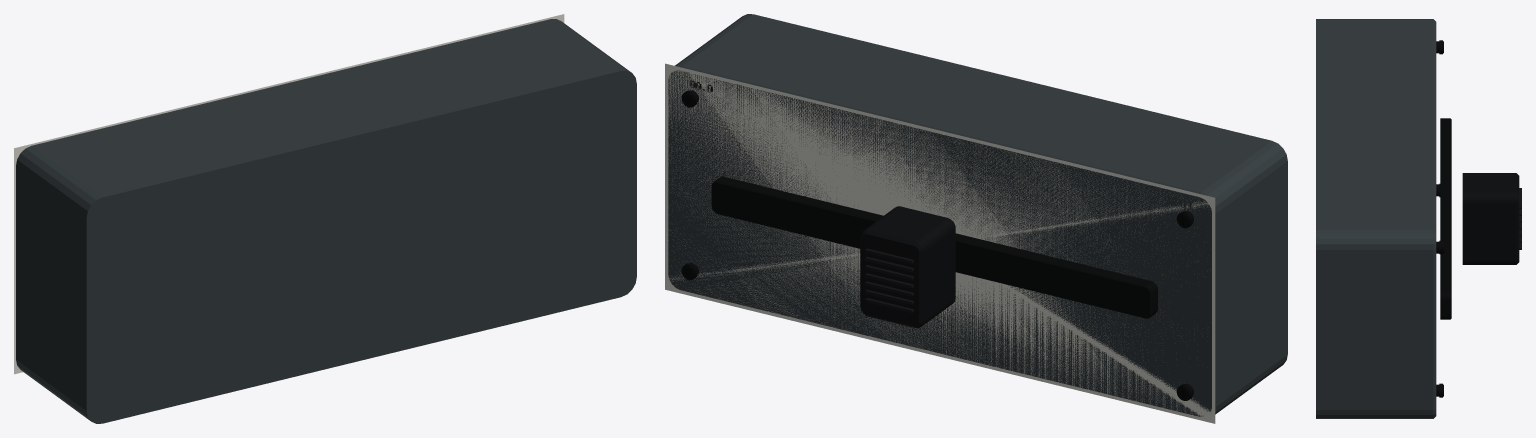
Rendered from MFDStudio.obj.
3 renders of one model, left to right at view 1: azimuth 30°, elevation 25°; view 2: azimuth 150°, elevation 25°; view 3: azimuth 270°, elevation 25°, orthographic. The views are drawn at different scales.
Parts seen in each view (by area): view 1: MFDStudioBody, MFDStudioScreen; view 2: MFDStudioBody, MFDStudioScreen, MFDStudioTrack, MFDStudioActuator, MFDStudioScrews; view 3: MFDStudioBody, MFDStudioActuator, MFDStudioTrack, MFDStudioScrews.
Boxes of the visible parts, <box> form: MFDStudioBody: <box>16,19,636,423</box>; MFDStudioScreen: <box>14,14,564,374</box>; MFDStudioBody: <box>668,14,1287,416</box>; MFDStudioScreen: <box>665,63,1215,423</box>; MFDStudioTrack: <box>711,176,1157,318</box>; MFDStudioActuator: <box>860,206,955,328</box>; MFDStudioScrews: <box>681,90,1193,400</box>; MFDStudioBody: <box>1316,19,1436,418</box>; MFDStudioActuator: <box>1462,173,1521,264</box>; MFDStudioTrack: <box>1440,118,1451,319</box>; MFDStudioScrews: <box>1436,40,1443,397</box>.
Bounding box in the file's own units: 0.14 × 0.055 × 0.0547.
Materials: 7 (1 with a texture image).
